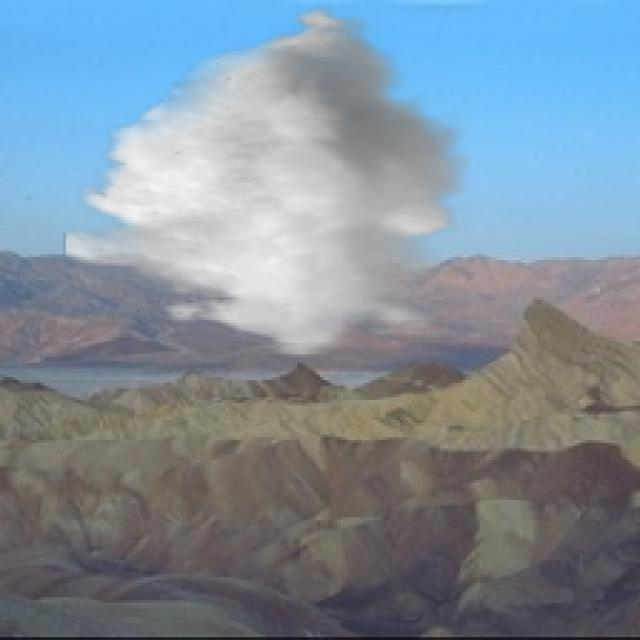smoke: (63, 0, 471, 357)
